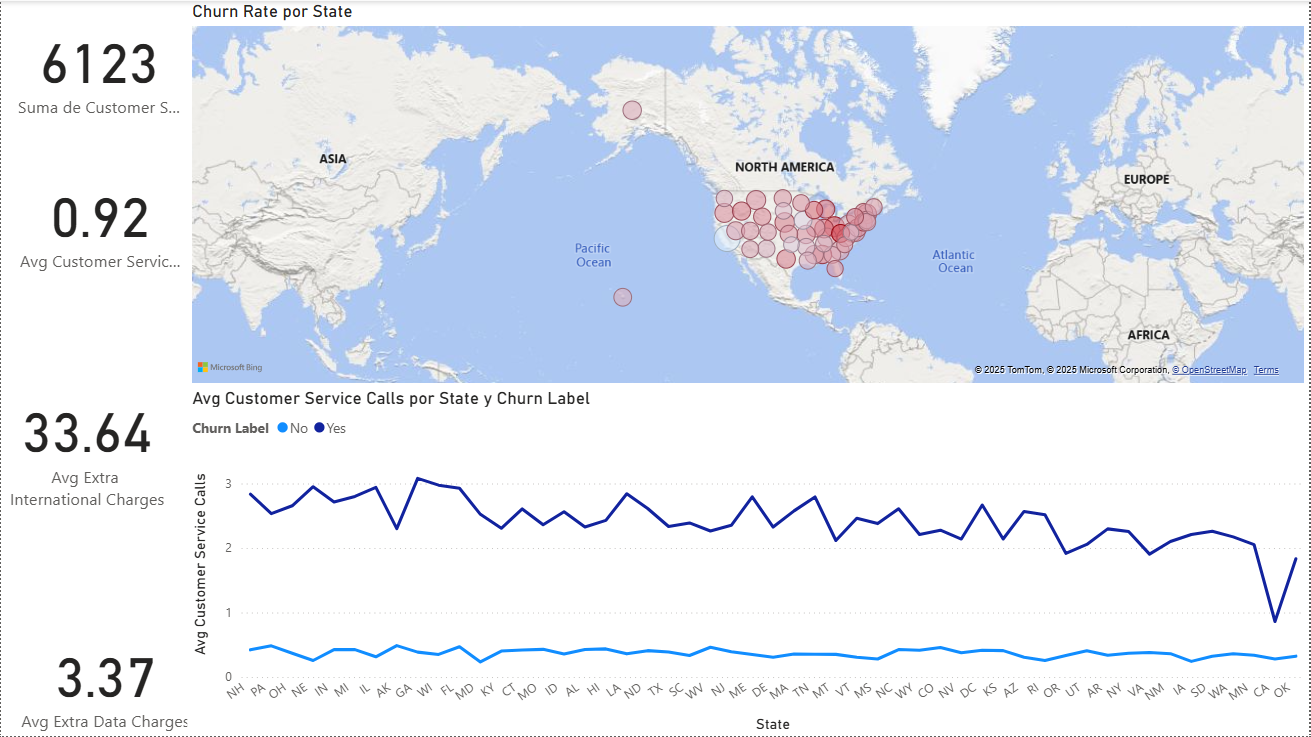

The dashboard page shown, as its layout file describes it:
{"tool":"powerbi","page":{"name":"Insights","canvas":[1280,720],"ordinal":4},"visuals":[{"type":"card","fields":{"Values":["Sum(Databel - Data.Customer Service Calls)"]},"box":[10.6,0,170.4,129.5],"z":0},{"type":"card","fields":{"Values":["Databel - Data.Avg Customer Service Calls"]},"box":[11.9,158.5,170.4,113.6],"z":1000},{"type":"card","fields":{"Values":["Databel - Data.Avg Extra International Charges"]},"box":[0,330.3,169.1,192.9],"z":2000},{"type":"card","fields":{"Values":["Databel - Data.Avg Extra Data Charges"]},"box":[0,611.7,204.8,108.3],"z":3000},{"type":"lineChart","fields":{"Y":["Databel - Data.Avg Customer Service Calls"],"Category":["Databel - Data.State"],"Series":["Databel - Data.Churn Label"]},"box":[182.3,377.9,1097.9,342.2],"z":4000},{"type":"map","fields":{"Category":["Databel - Data.State"],"Size":["Databel - Data.Churn Rate"]},"box":[182.3,0,1097.9,377.9],"z":5000}]}

Visuals, with their boxes in screenshot pixels (x1, y1, x2, y2), scaled from the page's 1280x720 canvas onto the 1311x737 screenshot:
card - Sum(Databel - Data.Customer Service Calls): <bbox>11, 0, 185, 133</bbox>
card - Databel - Data.Avg Customer Service Calls: <bbox>12, 162, 187, 279</bbox>
card - Databel - Data.Avg Extra International Charges: <bbox>0, 338, 173, 536</bbox>
card - Databel - Data.Avg Extra Data Charges: <bbox>0, 626, 210, 736</bbox>
lineChart - Databel - Data.Avg Customer Service Calls x Databel - Data.State: <bbox>187, 387, 1310, 736</bbox>
map - Databel - Data.State x Databel - Data.Churn Rate: <bbox>187, 0, 1310, 387</bbox>
